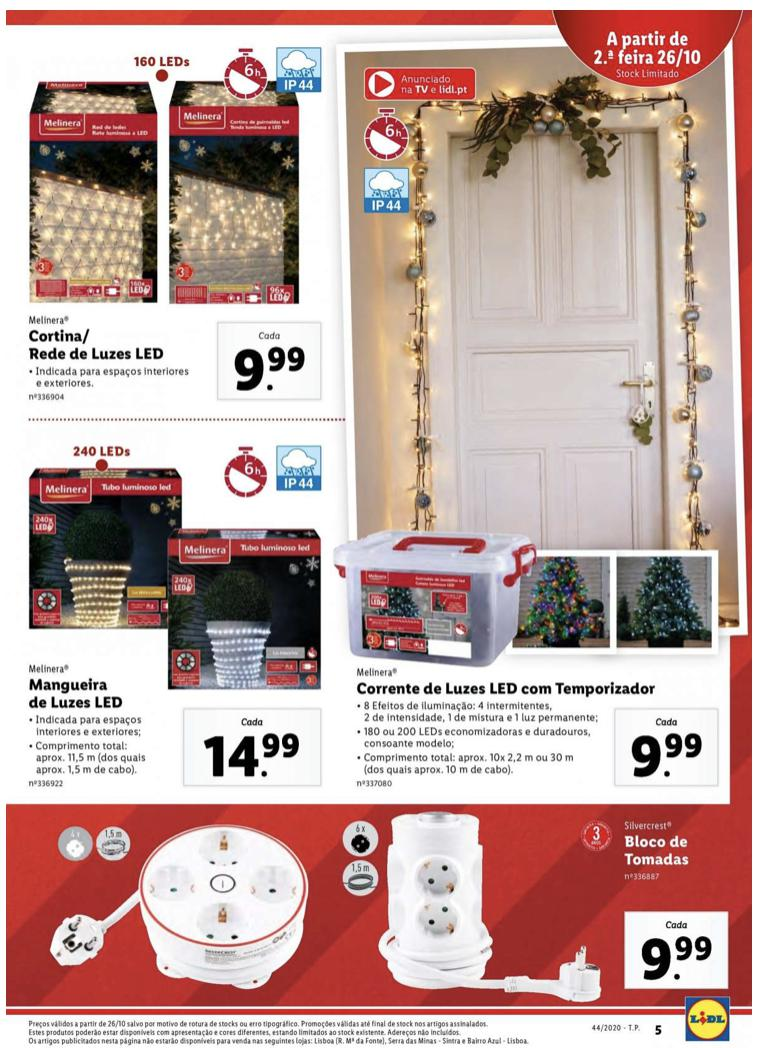name: (355, 678, 660, 699), (30, 321, 166, 367), (24, 675, 124, 715), (621, 832, 694, 869)
price: (206, 726, 301, 785), (632, 933, 717, 990), (625, 730, 710, 785), (230, 342, 310, 397)
product: (345, 32, 736, 791), (20, 807, 745, 997), (8, 30, 334, 407), (8, 432, 332, 794)
